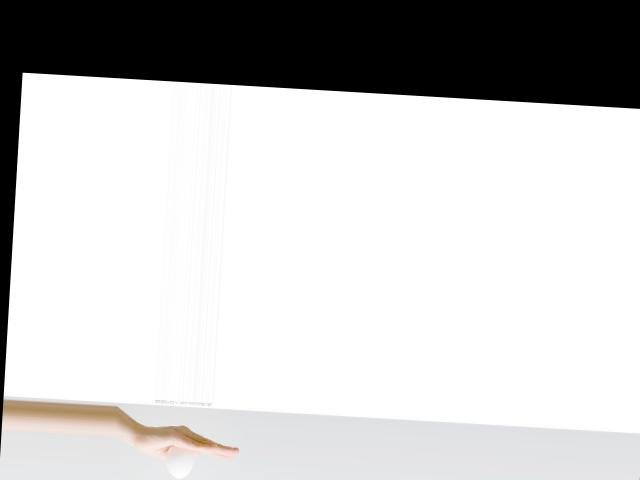egg: (166, 444, 194, 478)
